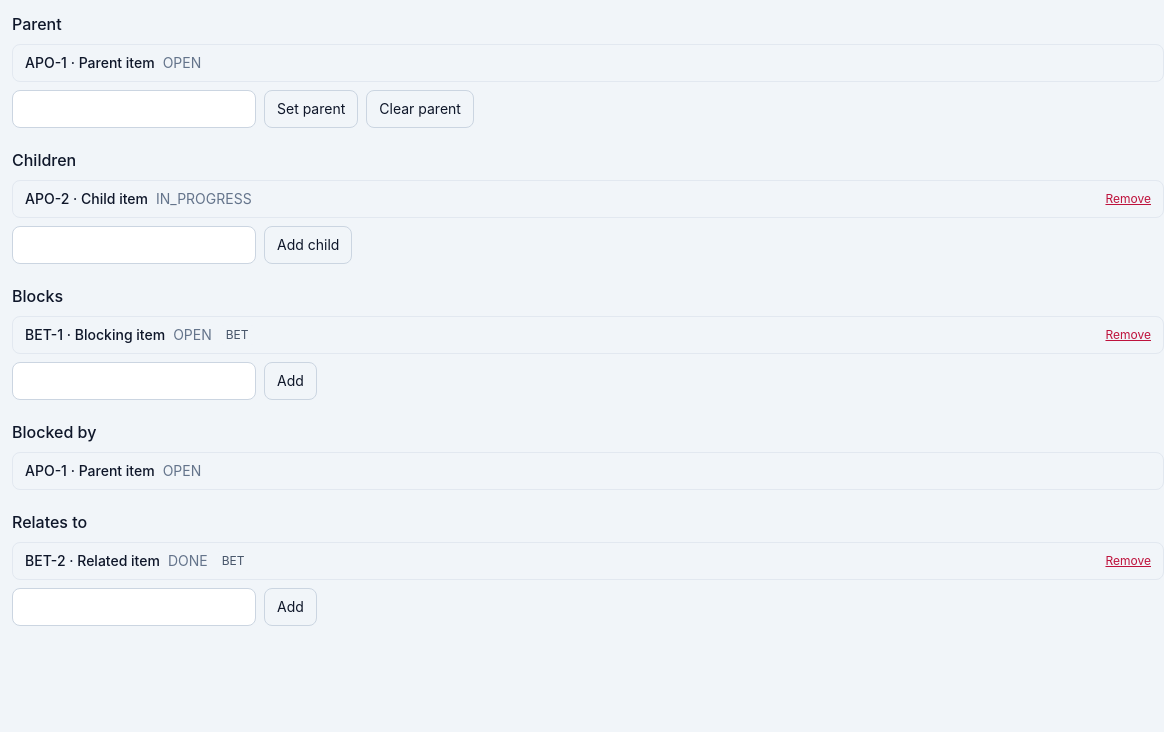
LinksTab › requires two characters and debounces the complete query into one bounded request
This screenshot has width=1164, height=732.
Type "A" into the dropdown named "Parent item" at (134, 109), box left=12, top=90, right=256, bottom=128
Wait 400 ms
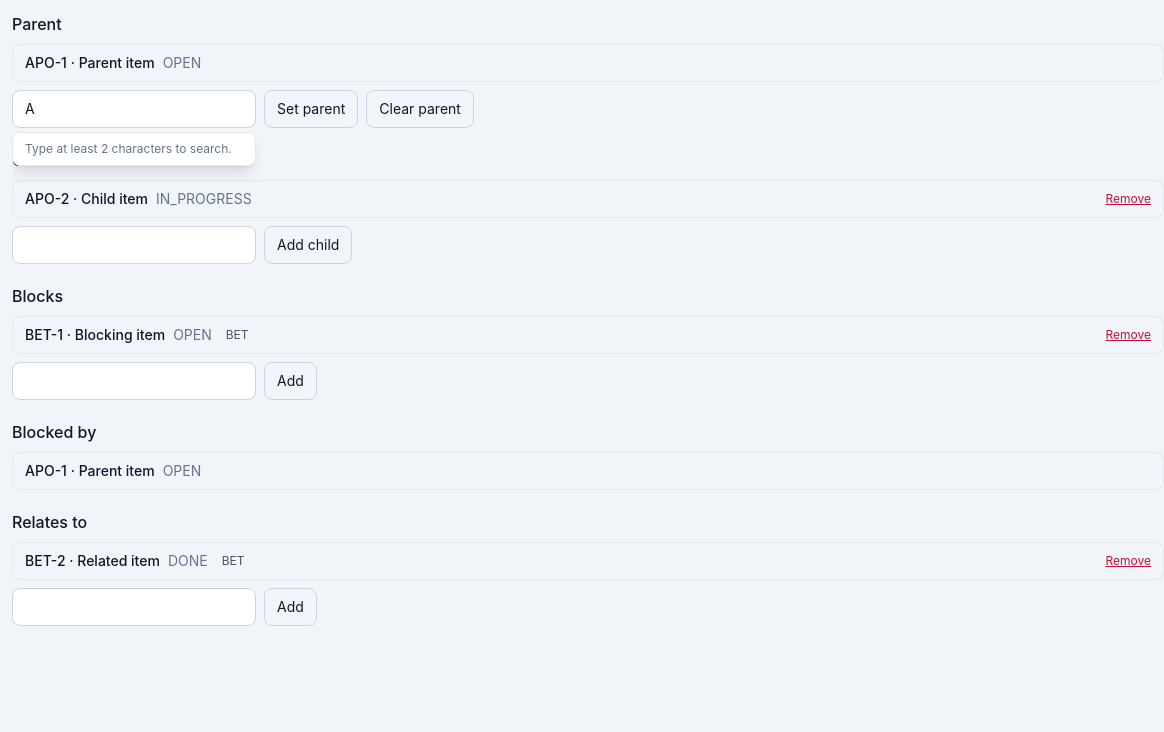
Replace the text in the dropdown named "Parent item" with "AP" at (134, 109), box left=12, top=90, right=256, bottom=128
Wait 200 ms
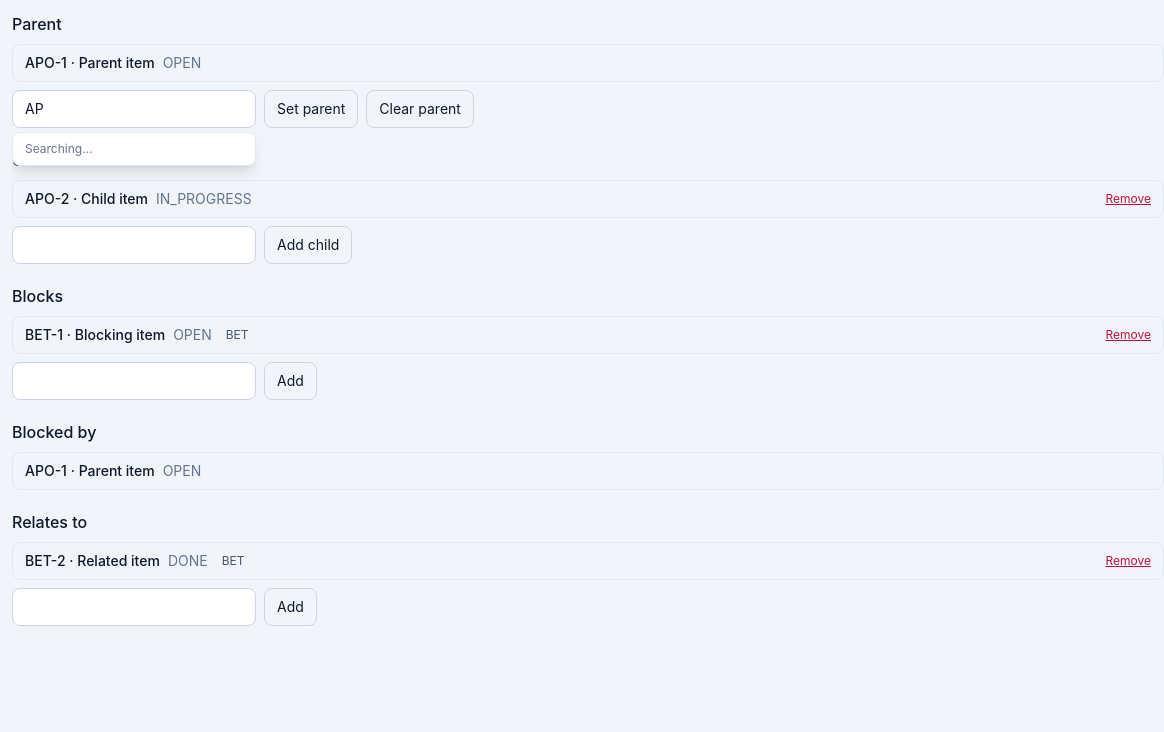
Replace the text in the dropdown named "Parent item" with "APO-4" at (134, 109), box left=12, top=90, right=256, bottom=128
Wait 276 ms
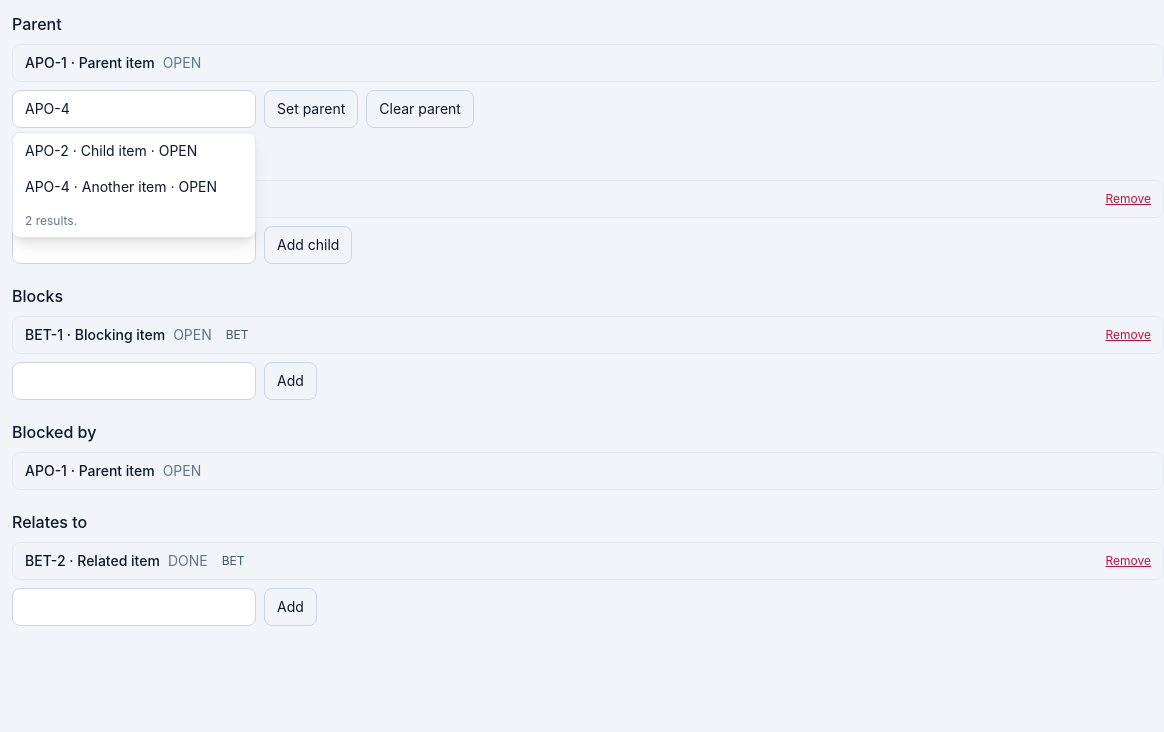
Expected: the option "APO-4 · Another item · OPEN" is shown, left=25, top=178, right=217, bottom=195
